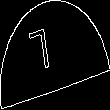L_S: (42, 26, 68, 84)
